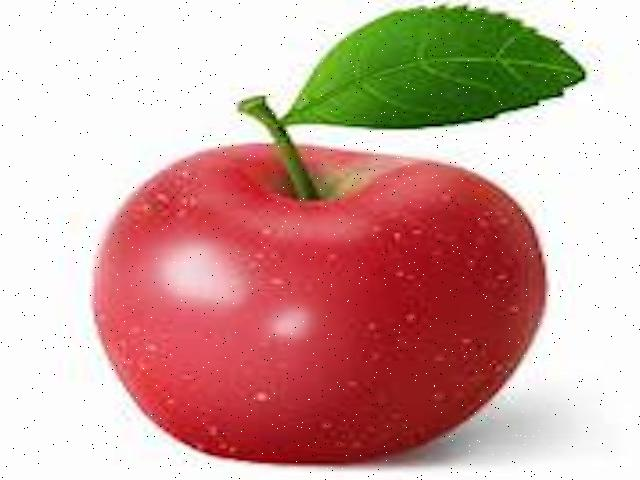apple: (78, 3, 595, 468)
